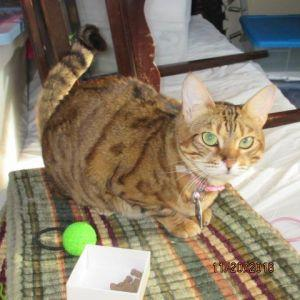bengal: (170, 62, 280, 191)
